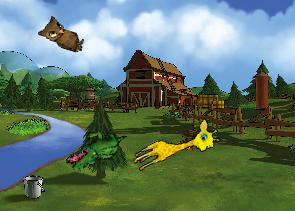crocodile: (63, 115, 128, 184)
giraffe: (129, 115, 223, 182)
owl: (36, 13, 89, 53)
